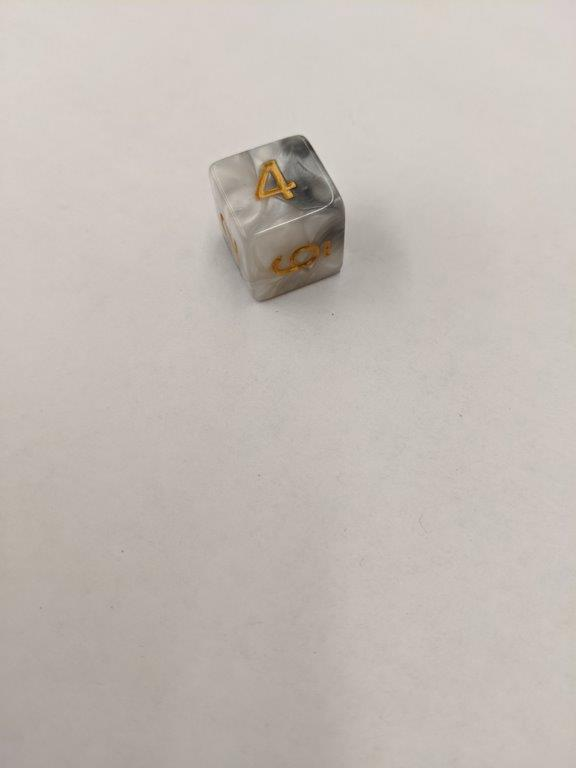d6-4: (212, 131, 347, 304)
